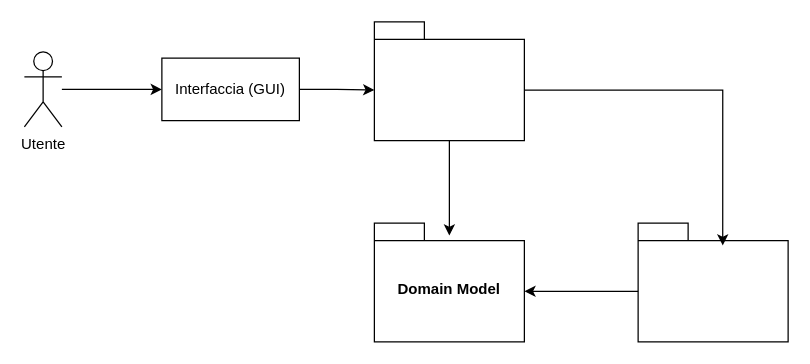
Some shapes in this 810 by 364 pixel diagram are drawn without their labels. Here are the shapes that lost their labels. From the top down, the centre of each, then its label:
point (448, 81): Application
point (712, 282): ORM
